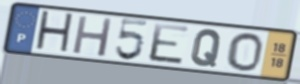5: (113, 17, 149, 63)
E: (147, 22, 191, 67)
H: (33, 9, 76, 57), (70, 14, 115, 59)
O: (225, 31, 265, 73)
Q: (189, 27, 224, 68)
